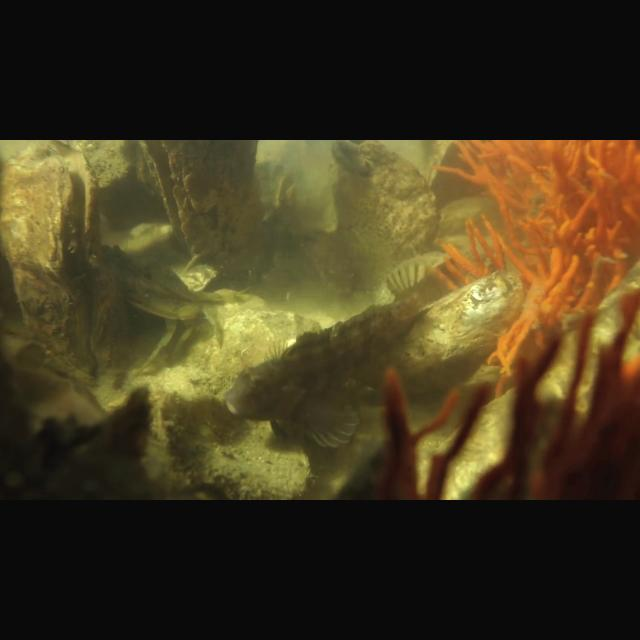Oyster-Closed: (370, 266, 524, 398), (328, 140, 440, 274)
Oyster-Open: (1, 140, 119, 377), (133, 141, 268, 278)
